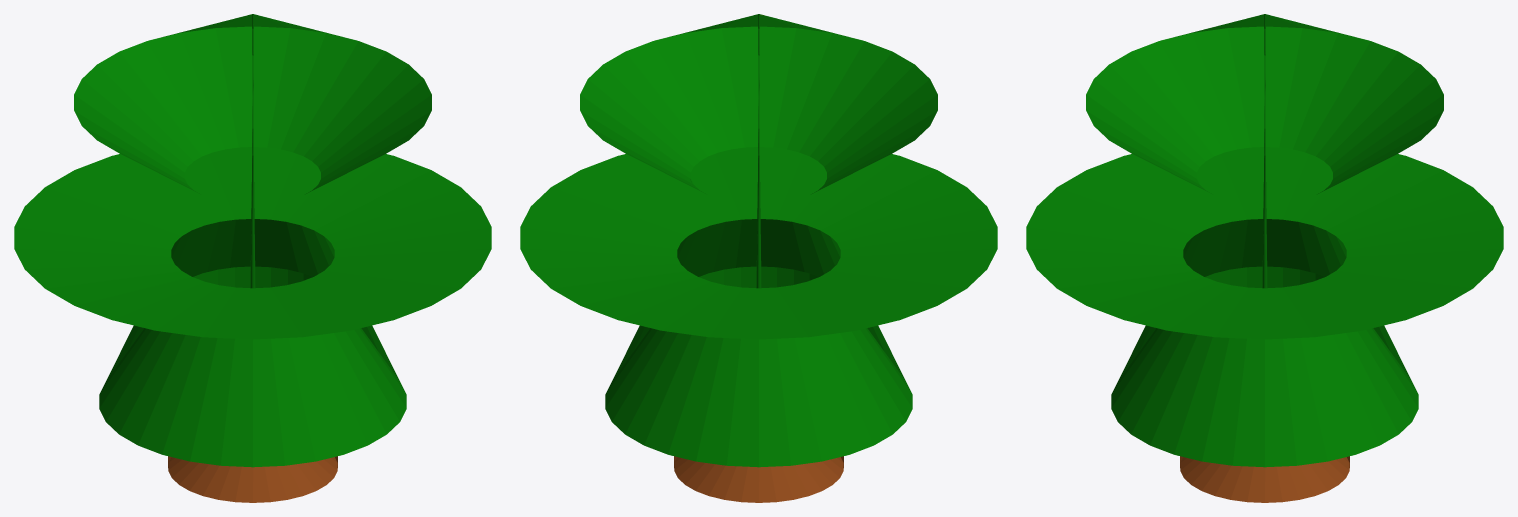
The picture shows the model from 3 angles, left to right: view 1: azimuth 30°, elevation 25°; view 2: azimuth 150°, elevation 25°; view 3: azimuth 270°, elevation 25°; orthographic projection.
Parts seen in each view (by area): view 1: algeomath; view 2: algeomath; view 3: algeomath.
Part boxes in pixels (bbox=[...]): algeomath: bbox=[14, 14, 491, 502]; algeomath: bbox=[520, 14, 997, 502]; algeomath: bbox=[1026, 14, 1503, 502].
Bounding box in the file's own units: 5.81 × 6.04 × 5.78.
1 material, 1 textured.
